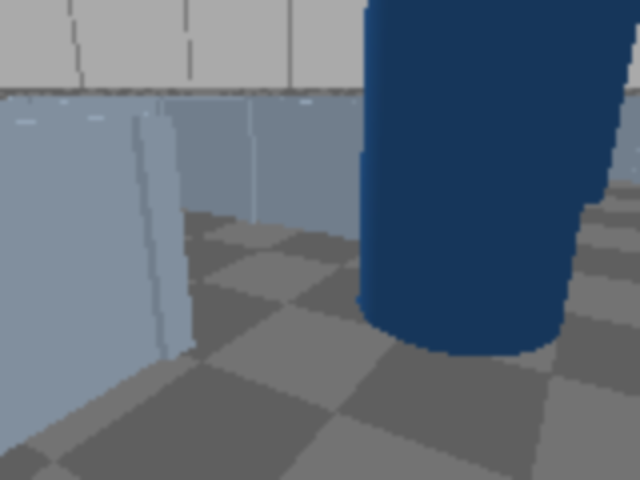person: (367, 0, 638, 348)
